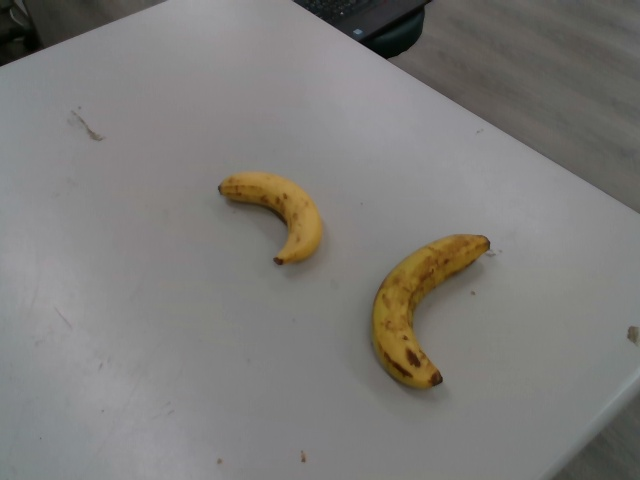banana: (363, 232, 493, 392), (217, 167, 323, 265)
